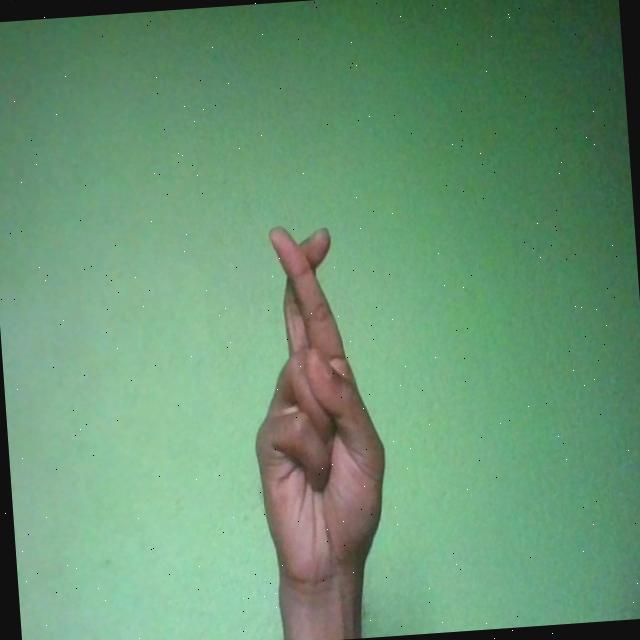Ok: (240, 221, 392, 597)
